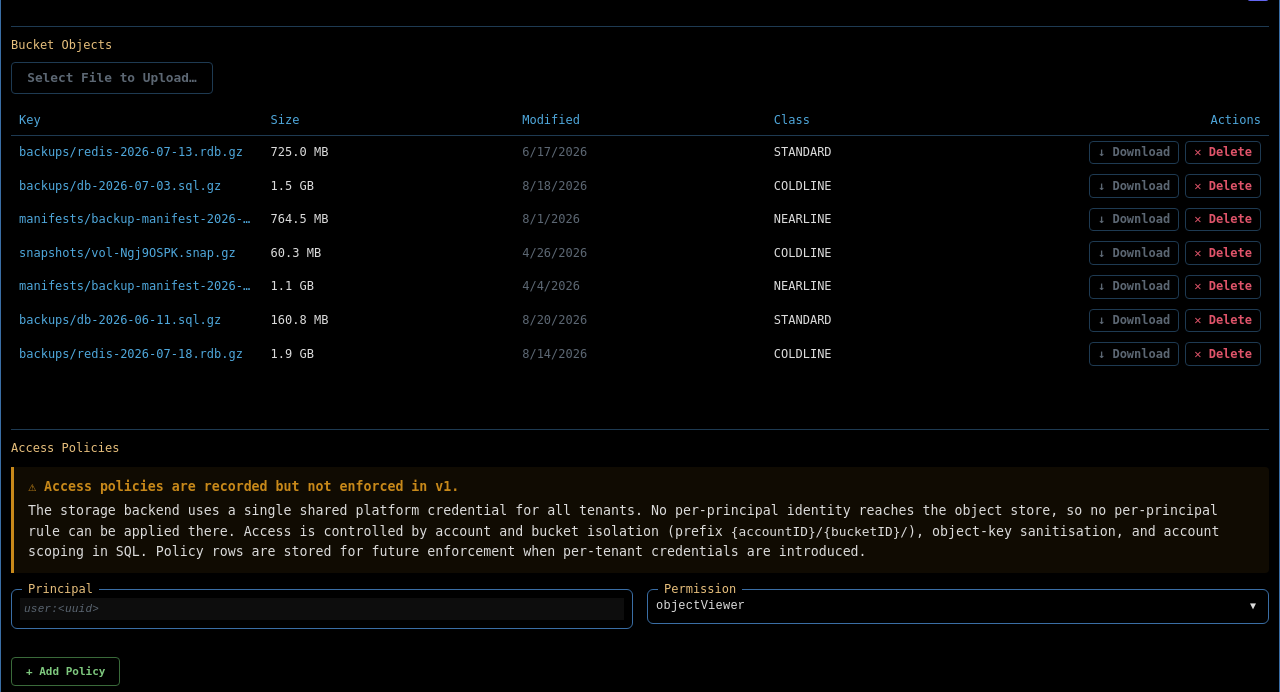
it: BucketSettingsPage — Access Policies UI › creates a policy and it appears in the list
# Fill in the create form
In the field labelled "Principal": (322, 609) [20,598,624,620], type "user:123e4567-e89b-12d3-a456-426614174000"
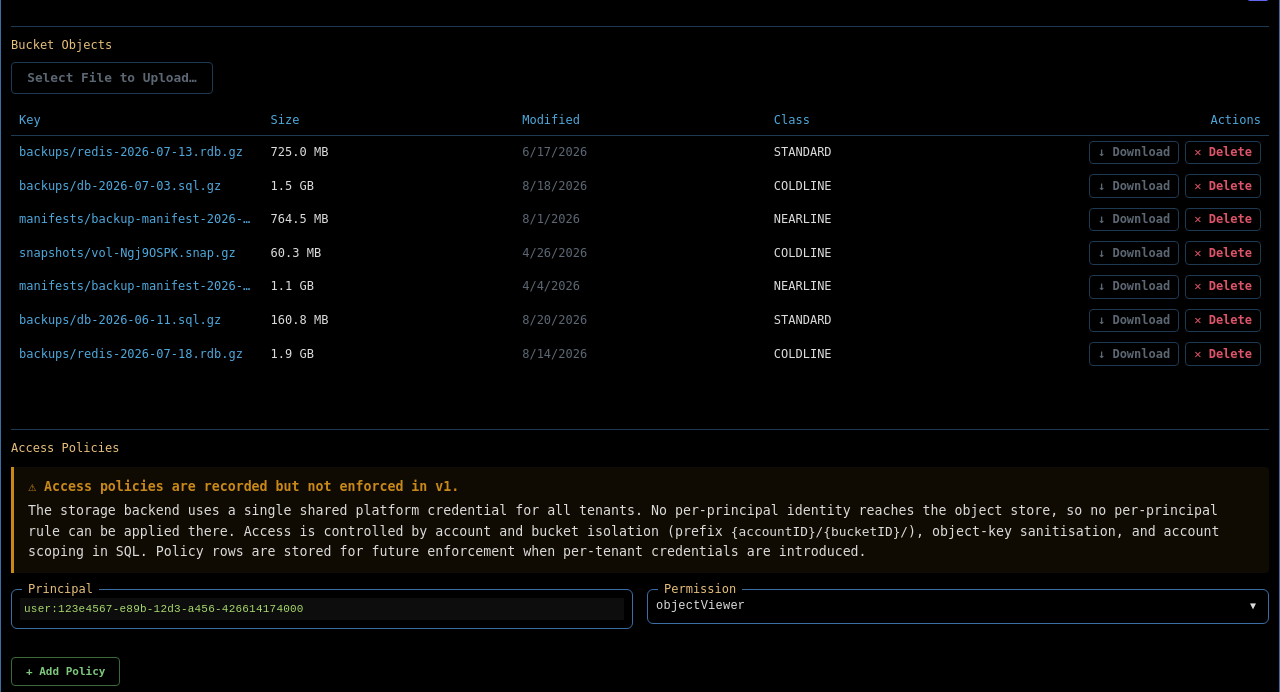
Click the button "+ Add Policy": click(66, 672) [11,657,120,686]
(page scrolled)
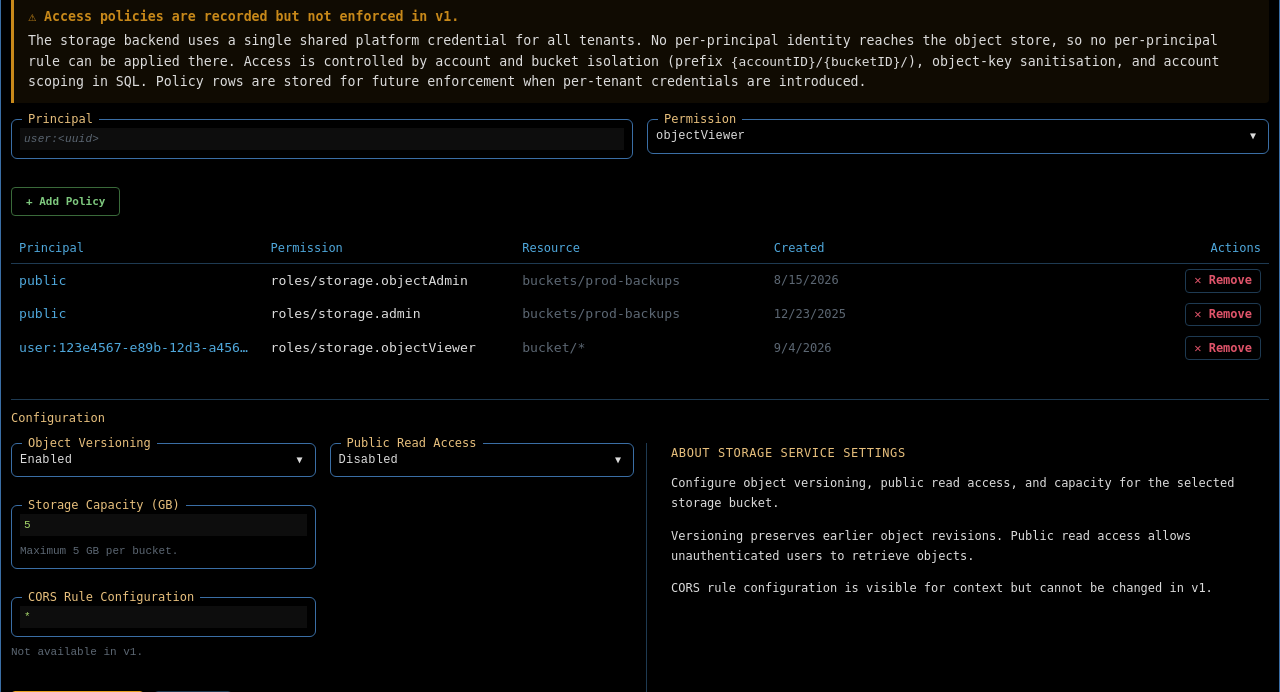
Result: the text "user:123e4567-e89b-12d3-a456-426614174000" is shown at [11,331,263,365]
